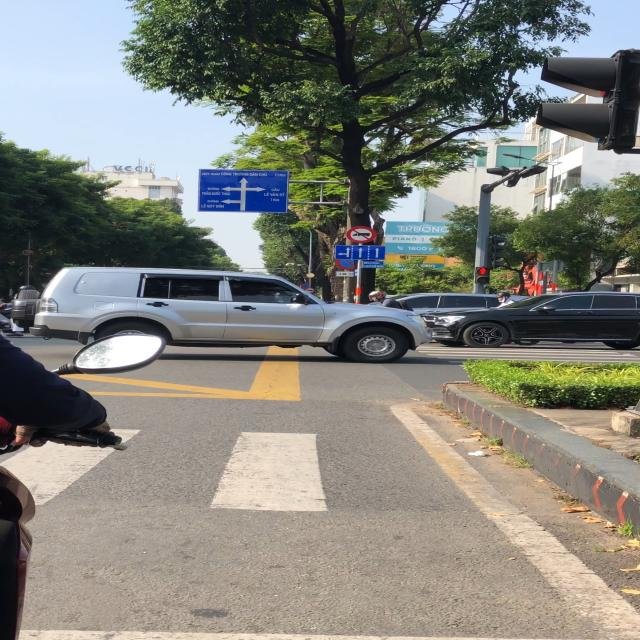Bien bao cam xe so-mi ro-mooc: (344, 224, 380, 244), (303, 288, 317, 294)
